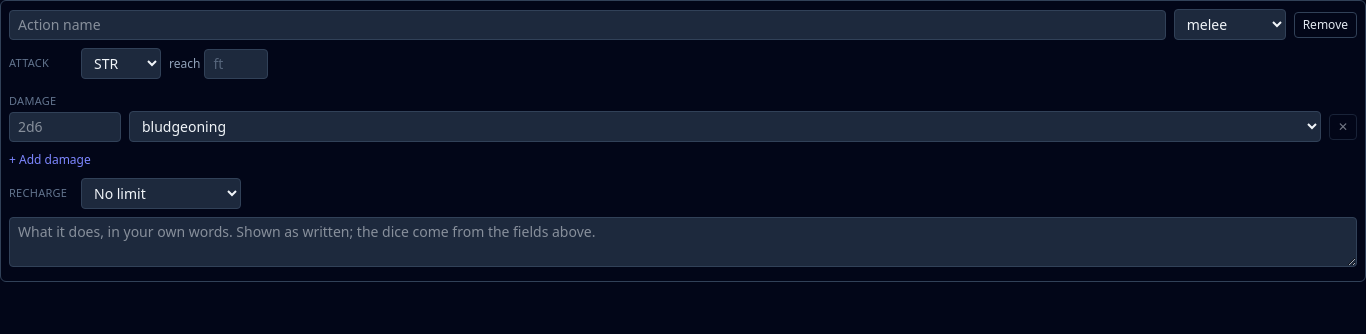
Test case: ActionEditor › adds a damage row and removes one by its ✕
What coordinates should you click on to do the following:
click the button "+ Add damage"
I would click on:
 (50, 160)
Its box is [9, 152, 91, 168].
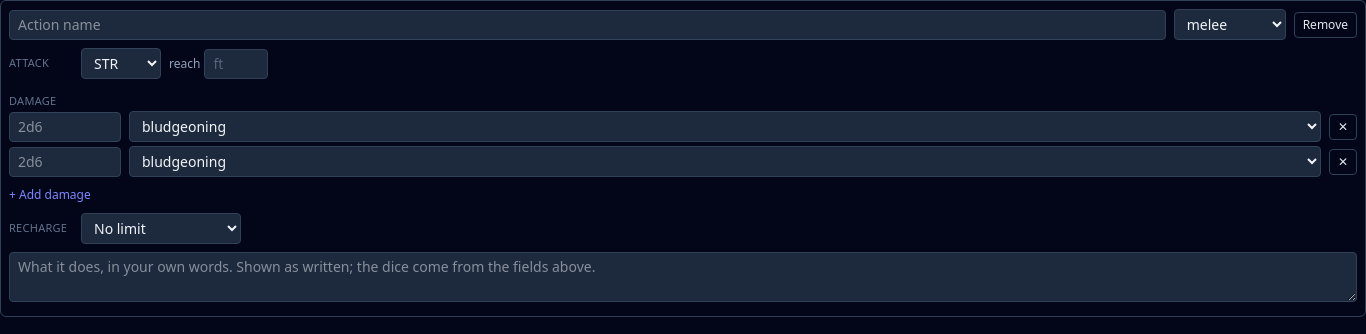
Now the number of fields named "Damage formula" is 2, box [9, 112, 121, 142]; [9, 146, 121, 176]
What coordinates should you click on to do the following:
click the button named "Remove damage"
I would click on:
 (1343, 162)
Its box is [1329, 148, 1357, 174].
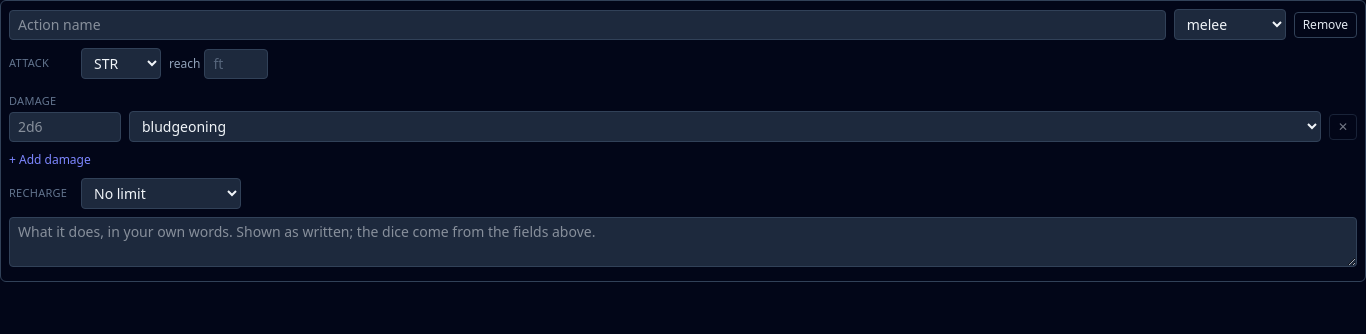
Now the number of fields named "Damage formula" is 1, box [9, 112, 121, 142]
